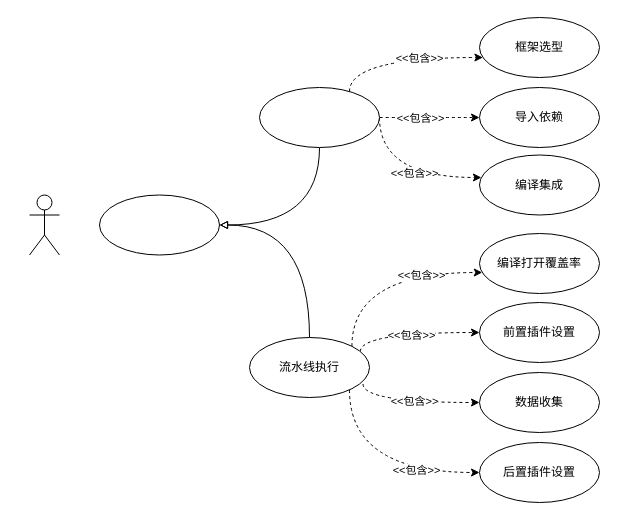
The diagram is 617 pixels wide and 520 high, and some of its shapes have lost their labels. The shapes that lost their labels are listed below. From the top down, each one's centre as x and y in pixels, then its label:
point 319,117: 首次导入
point 44,224: Developer
point 159,224: 单测活动导入
